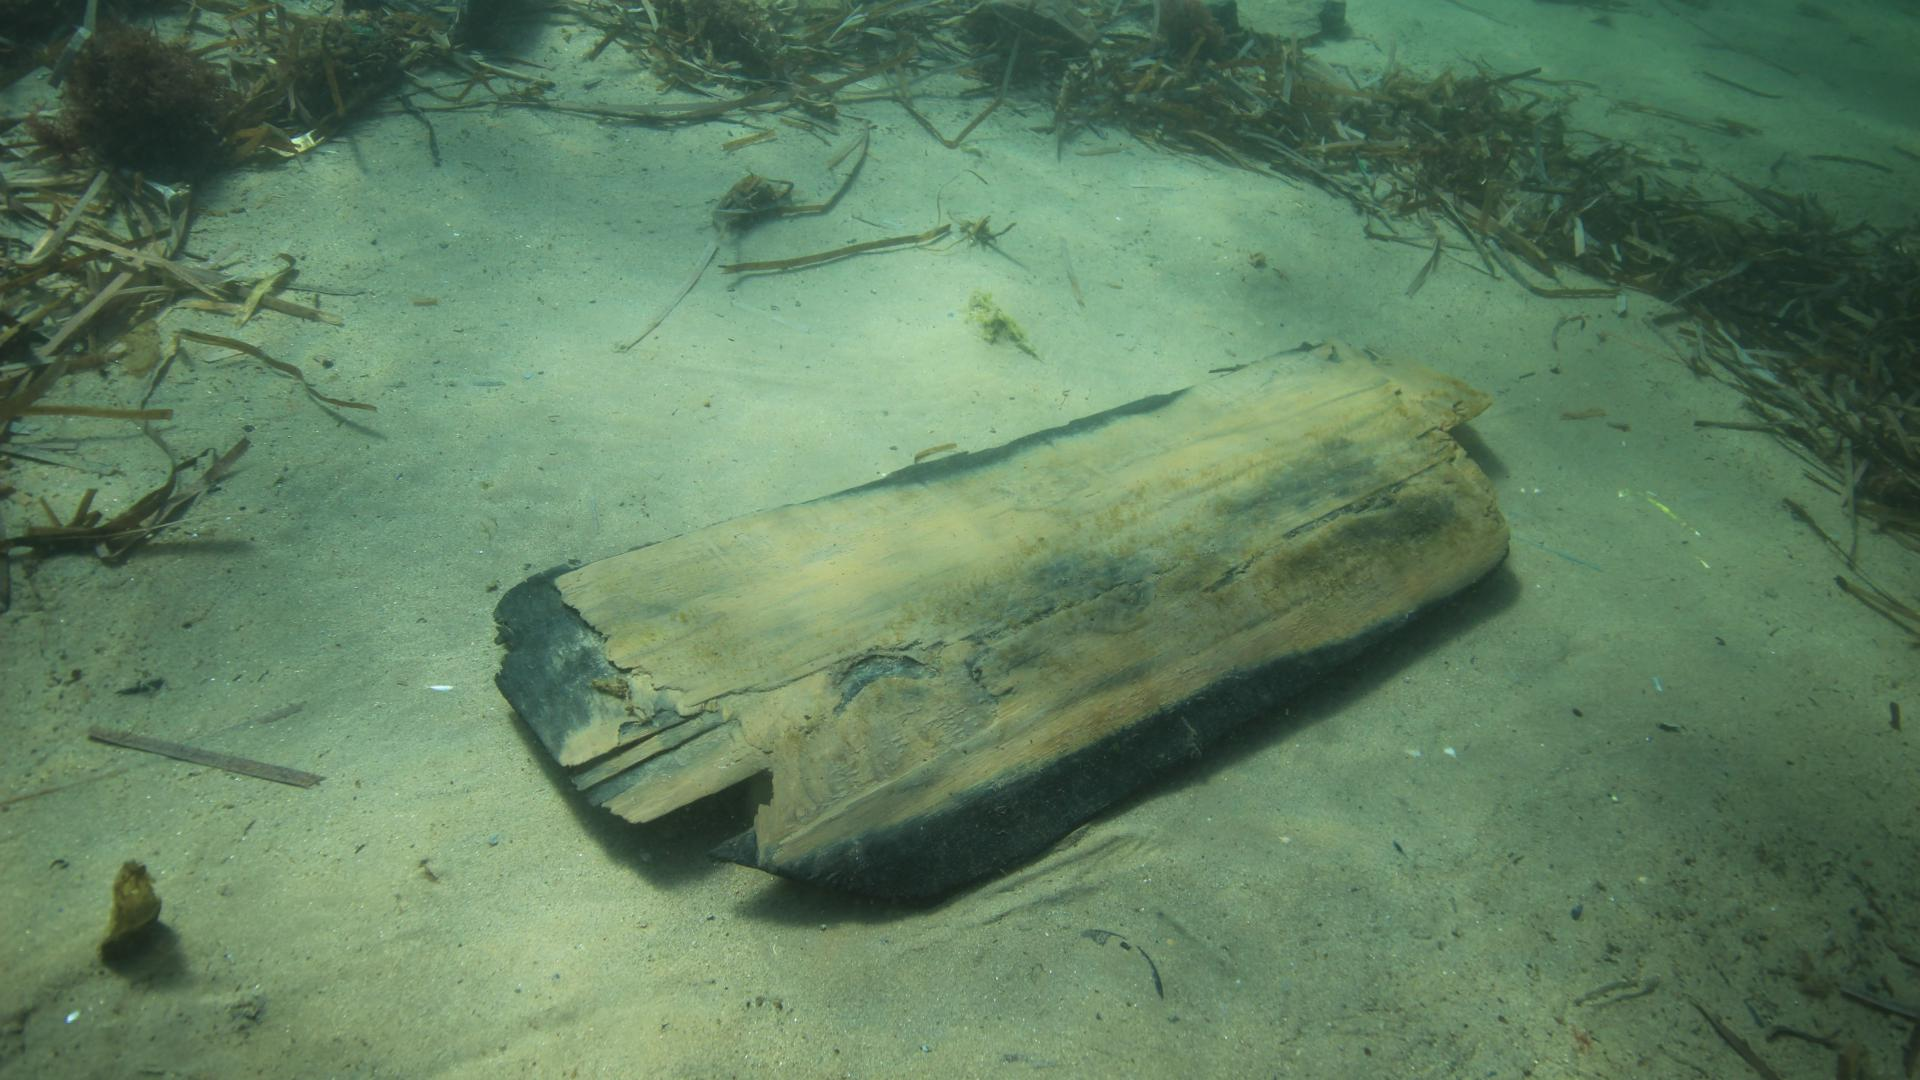wood: (491, 334, 1515, 902)
